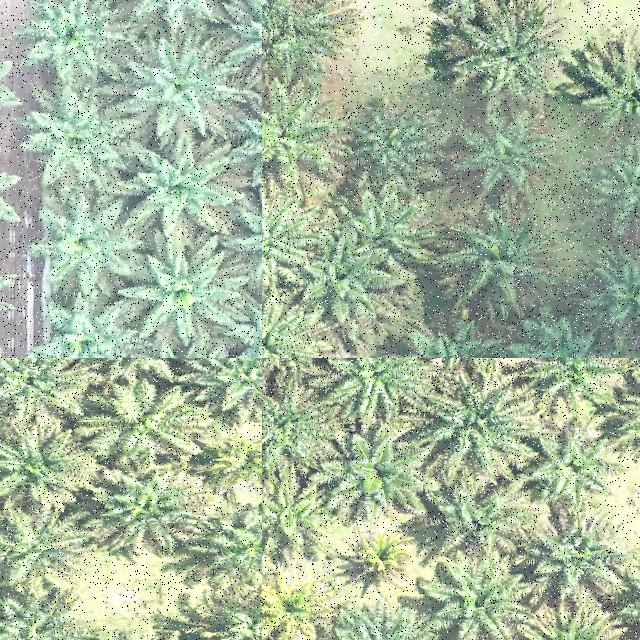Ganoderma: (262, 584, 321, 639), (208, 438, 262, 486), (352, 538, 402, 578)
